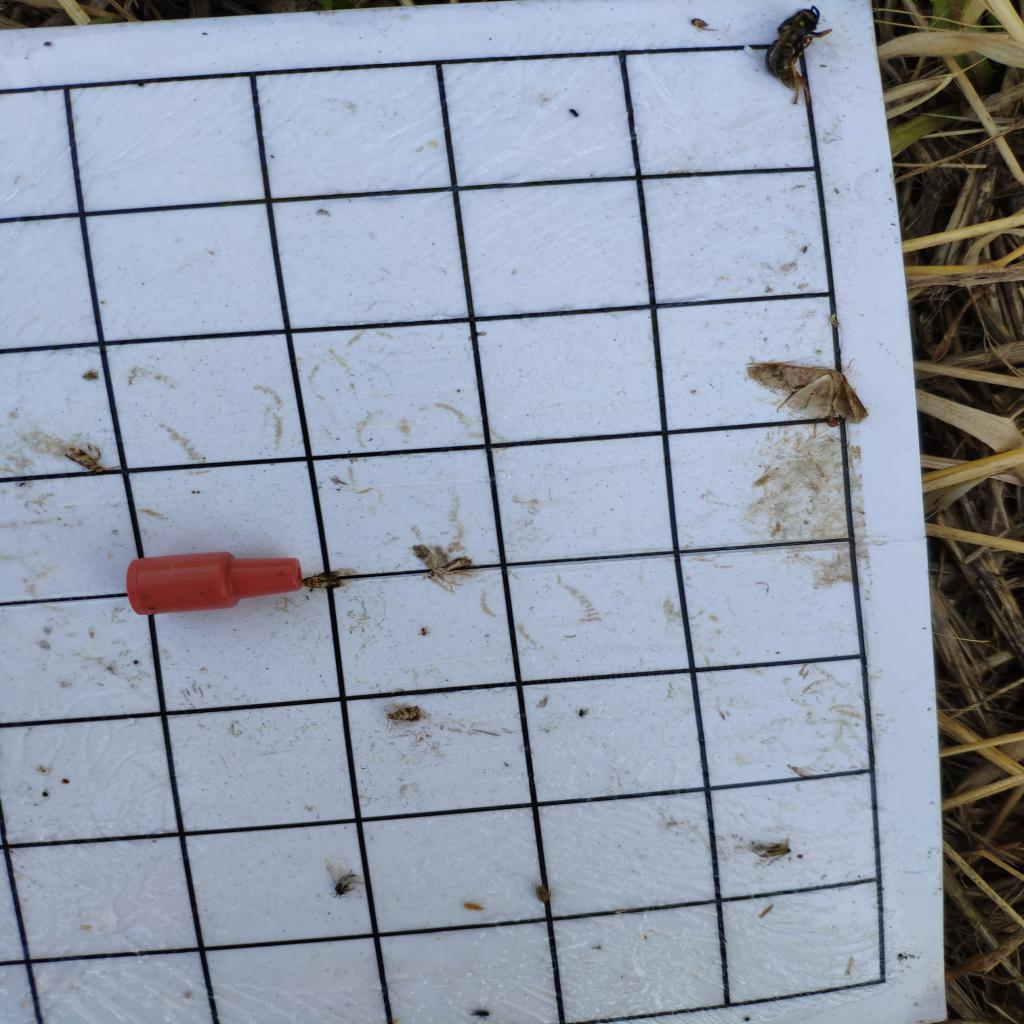grape_moth: (410, 543, 480, 594), (61, 442, 110, 474), (379, 703, 422, 732), (752, 839, 792, 869), (300, 569, 346, 589), (533, 882, 555, 904)
